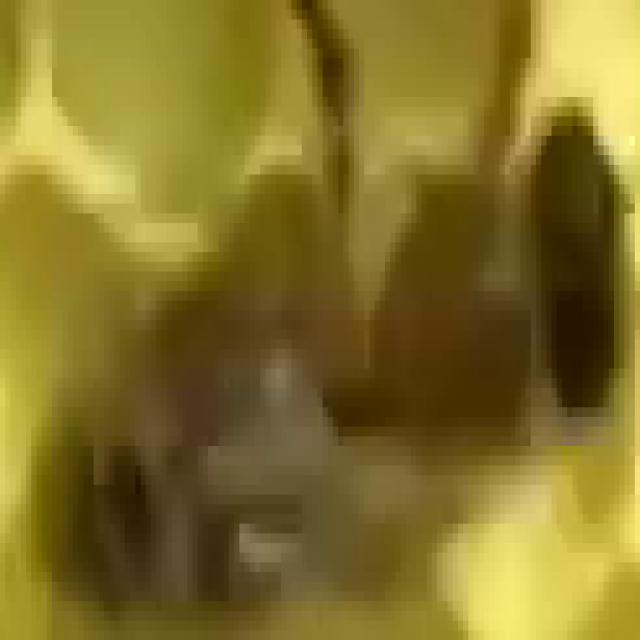honeybee: (32, 82, 640, 634)
